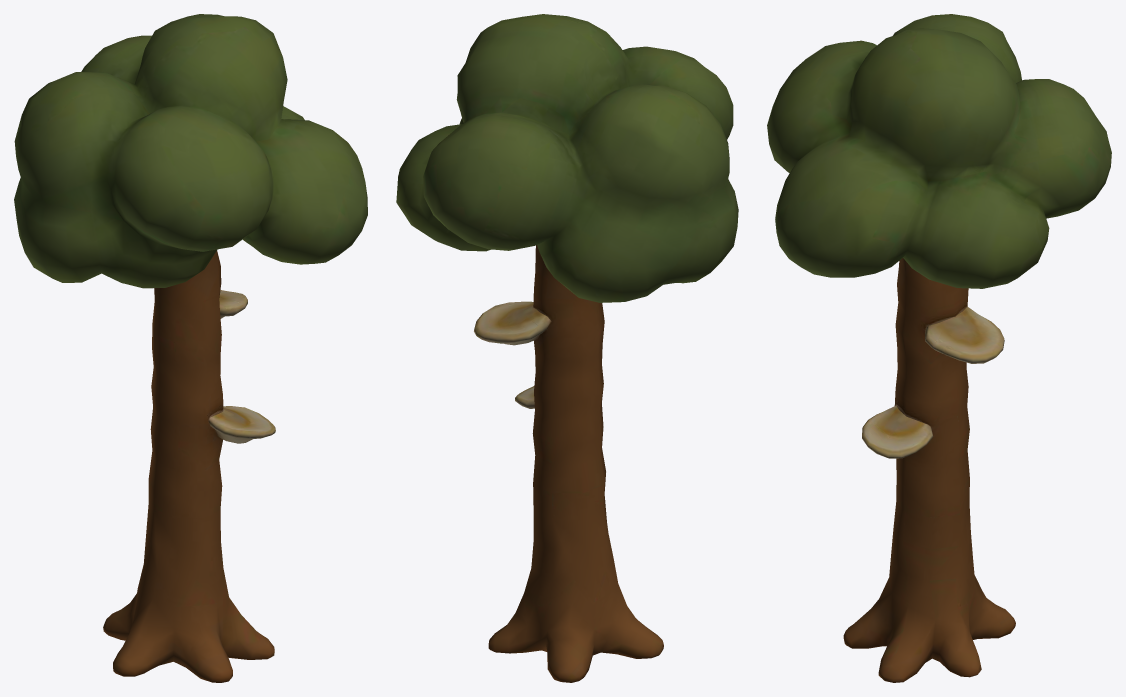
File: forest-far-tree.glb
The picture shows the model from 3 angles, left to right: view 1: azimuth 30°, elevation 25°; view 2: azimuth 150°, elevation 25°; view 3: azimuth 270°, elevation 25°; orthographic projection.
Visible parts, largest first — view 1: forest-far-tree; view 2: forest-far-tree; view 3: forest-far-tree.
Part boxes in pixels (x1=…): forest-far-tree: x1=14, y1=14, x2=367, y2=682; forest-far-tree: x1=396, y1=14, x2=738, y2=682; forest-far-tree: x1=767, y1=14, x2=1111, y2=682.
Bounding box in the file's own units: 0.5044 × 0.9995 × 0.5005.
Materials: 1 (1 with a texture image).
